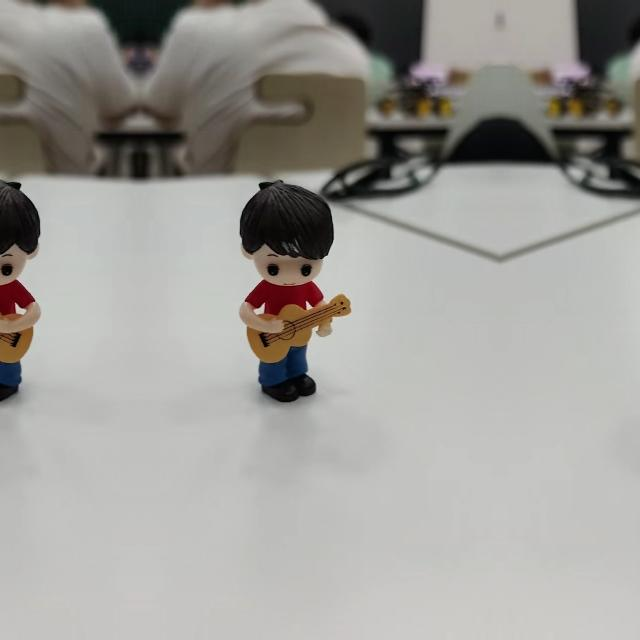man cloth: (237, 274, 326, 314), (0, 274, 43, 313)
man head: (240, 174, 336, 284), (0, 174, 39, 284)
trousers: (255, 342, 317, 406), (0, 342, 25, 406)
